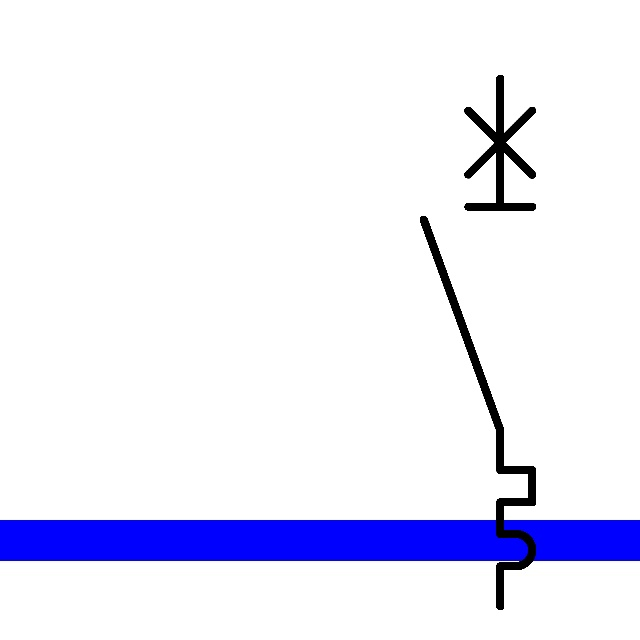interruptor_termomagnetico: (410, 65, 546, 620)
